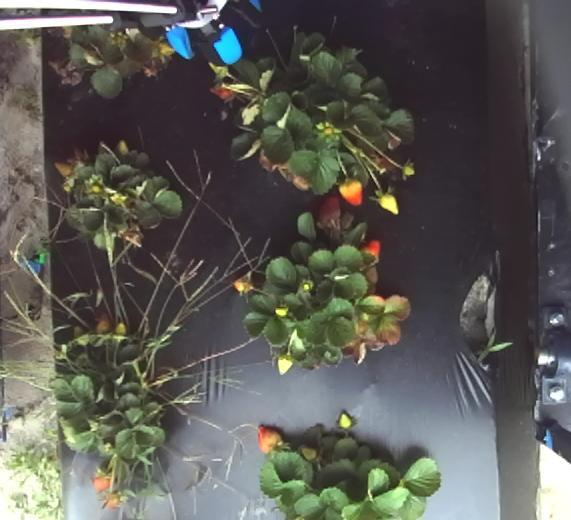mature: (313, 191, 343, 224), (355, 234, 383, 269)
